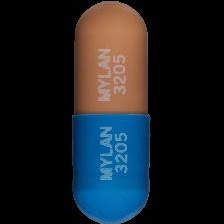0378-3205: (0, 0, 224, 224)
